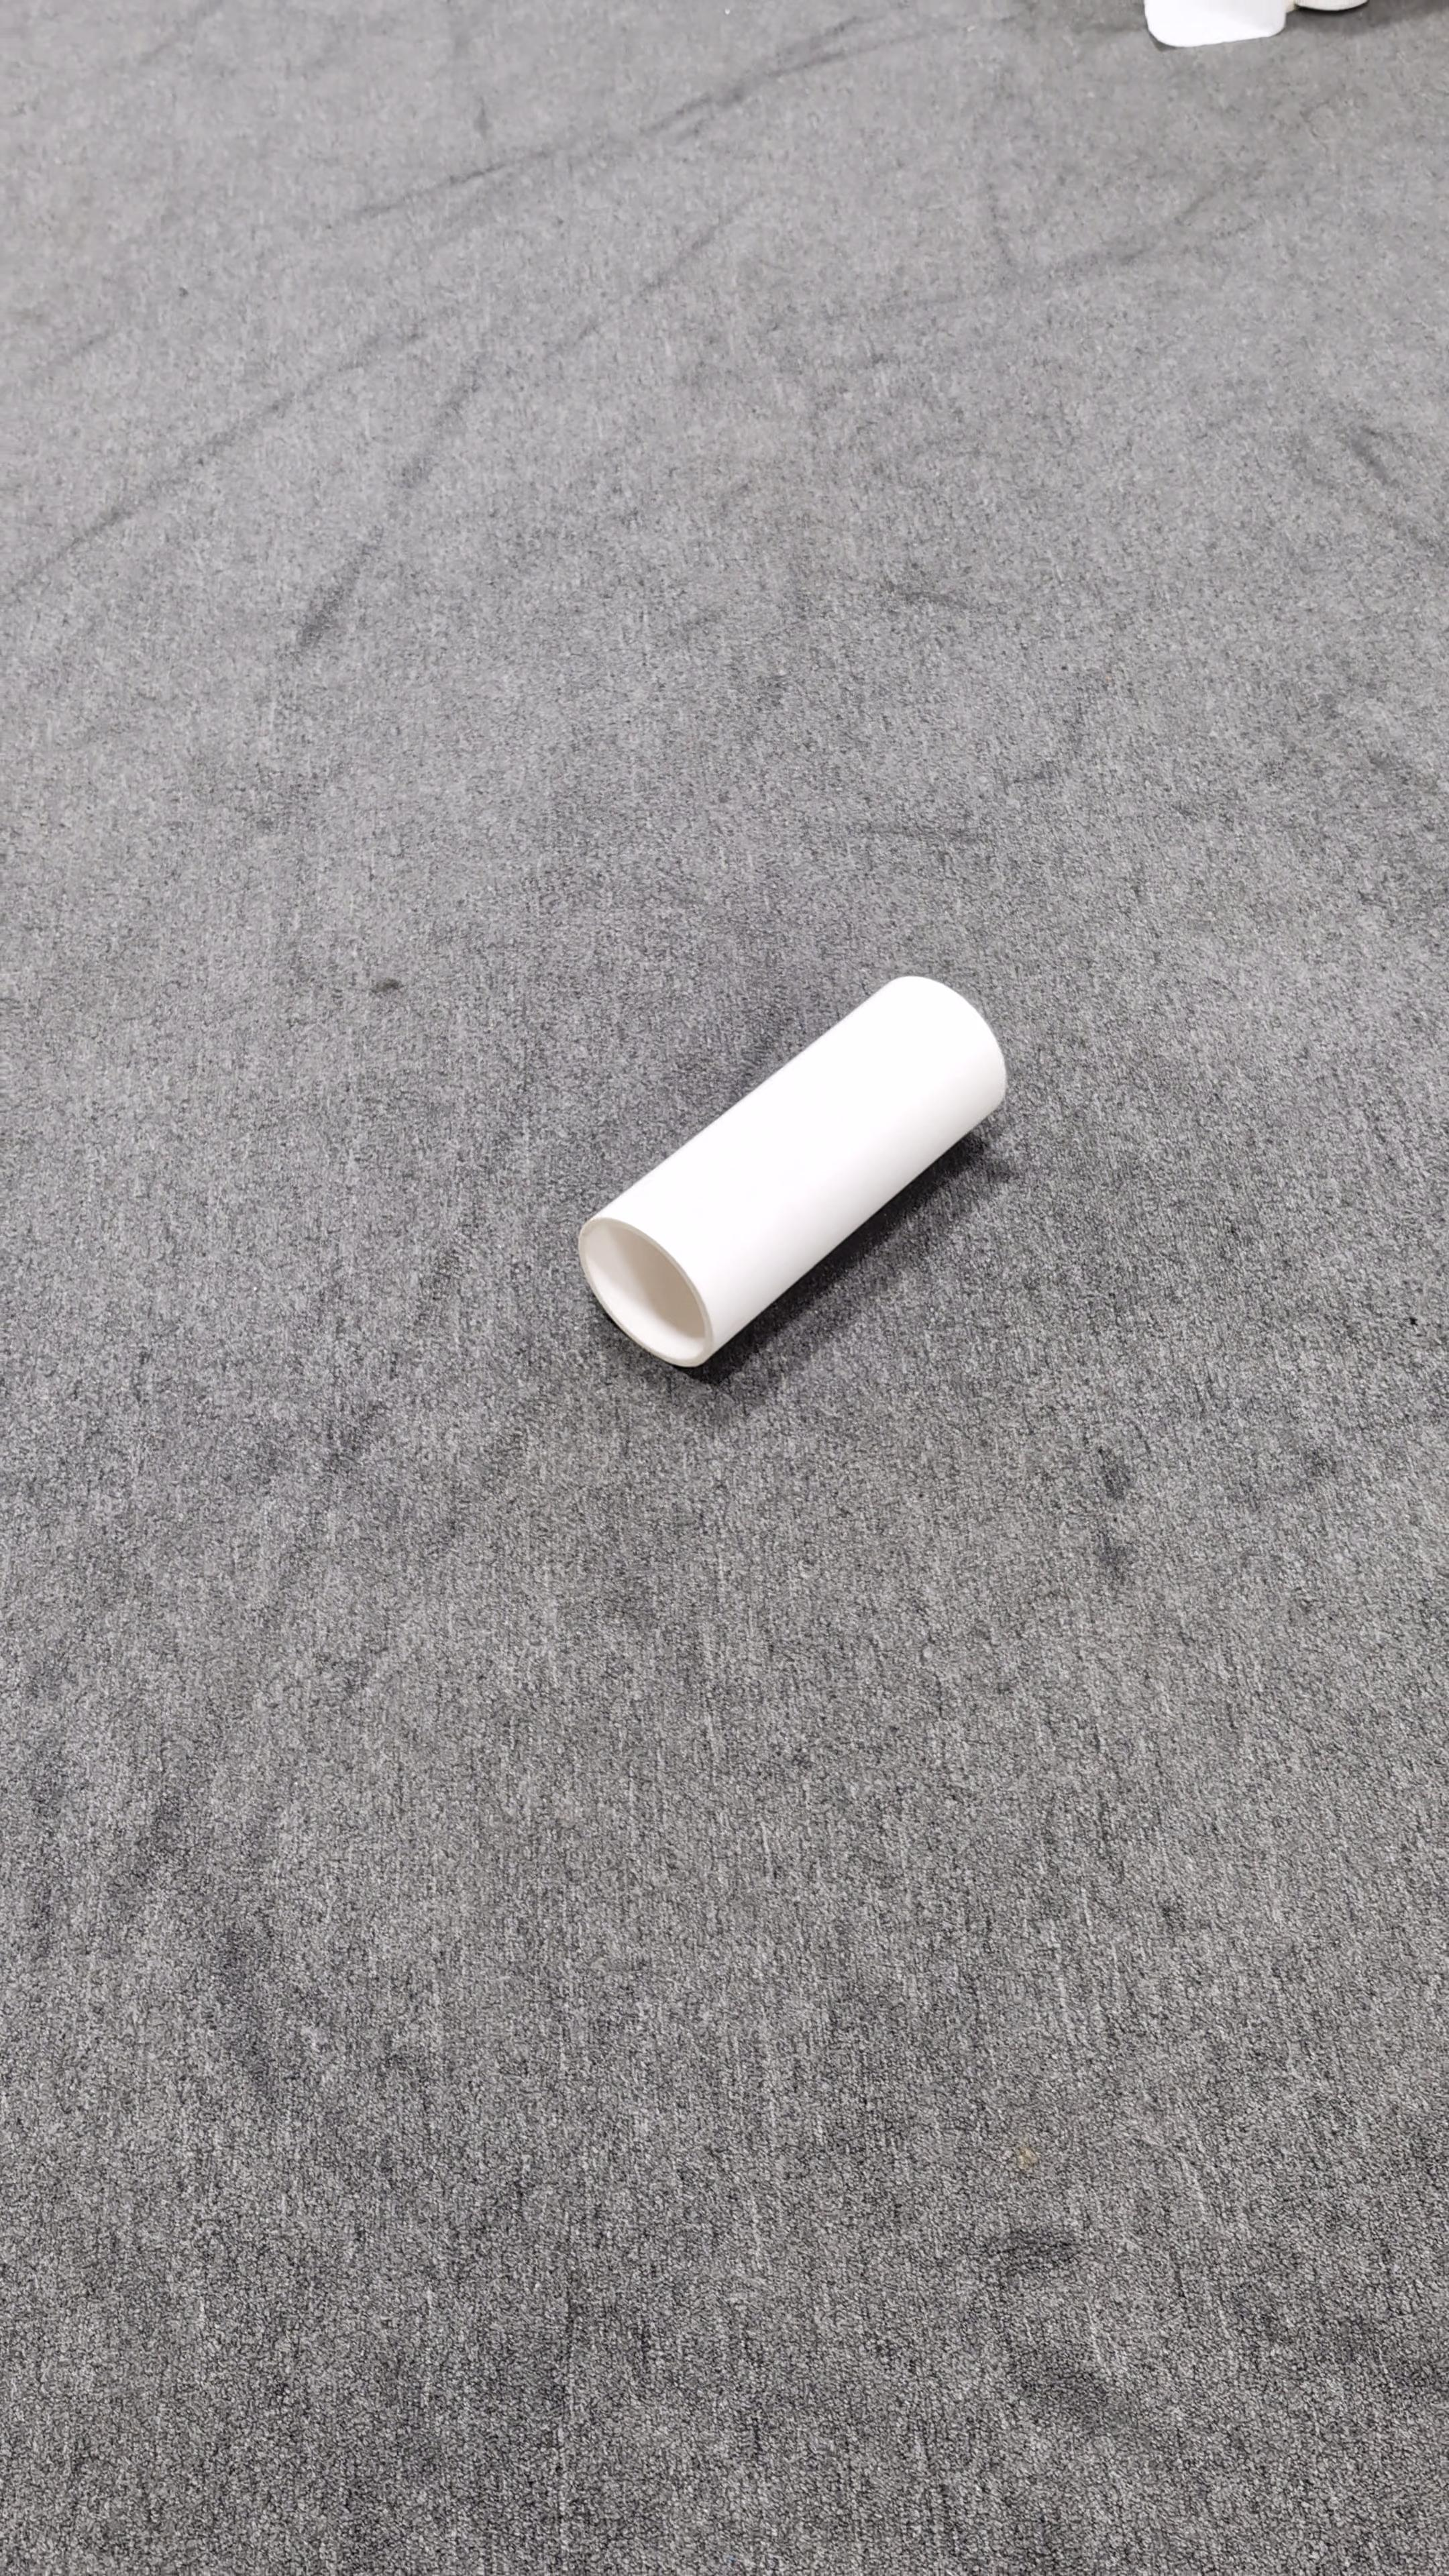coral: (579, 971, 1010, 1368)
